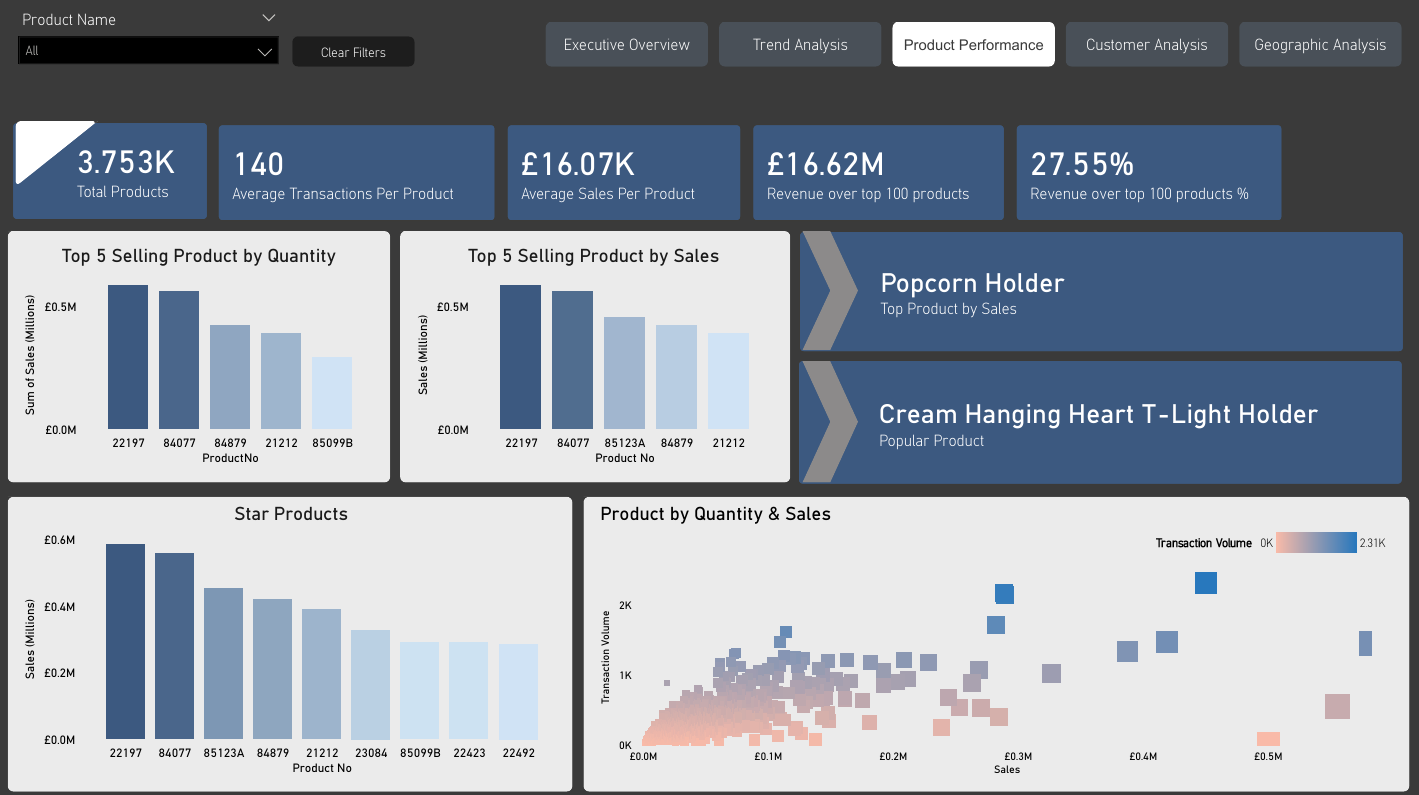

The page's visual inventory and layout, read from the dashboard file:
{"tool":"powerbi","page":{"name":"Product Performance","canvas":[1280,720],"ordinal":2},"visuals":[{"type":"shape","box":[362.5,208.8,351.2,226.2],"z":0},{"type":"shape","box":[10,208.8,343.8,226.2],"z":1000},{"type":"shape","box":[527.5,447.5,743.8,265],"z":2000},{"type":"shape","box":[10,447.5,507.5,265],"z":3000},{"type":"cardVisual","fields":{"Data":["Final Sales.Measure"]},"box":[717.5,203.8,553.8,113.8],"z":4000},{"type":"cardVisual","fields":{"Data":["Final Sales.Revenue over top 10 products"]},"box":[675.3,107.5,236.2,97.5],"z":5000},{"type":"cardVisual","fields":{"Data":["Products.Revenue over top 10 products %"]},"box":[911.5,107.5,250,97.5],"z":6000},{"type":"cardVisual","fields":{"Data":["Products.Total Products"]},"box":[8.8,106.2,186.2,97.5],"z":7000,"group":"g1"},{"type":"cardVisual","fields":{"Data":["Products.Top #1 Product based on Transaction Volume"]},"box":[717.5,310,553.8,127.5],"z":7000},{"type":"cardVisual","fields":{"Data":["Date.Average Transactions Per Product"]},"box":[194,107.5,260,97.5],"z":8000},{"type":"cardVisual","fields":{"Data":["Date.Average Sales Per Product"]},"box":[454,107.5,221.2,97.5],"z":9000},{"type":"scatterChart","title":"Product by Quantity & Sales","fields":{"Y":["Products.Transaction Volume"],"X":["Sum(Sales.Sales)"],"Category":["Products.ProductNo"]},"box":[537.5,452.5,717.5,250],"z":10000},{"type":"clusteredColumnChart","title":"Star Products","fields":{"Category":["Products.ProductNo"],"Y":["Sum(Sales.Sales)","select"]},"box":[20,452.5,490,250],"z":11000},{"type":"clusteredColumnChart","title":"Top 5 Selling Product by Sales","fields":{"Category":["Products.ProductNo"],"Y":["Sum(Sales.Sales)"]},"box":[372.5,221.2,328.8,202.5],"z":12000},{"type":"clusteredColumnChart","title":"Top 5 Selling Product by Quantity","fields":{"Category":["Products.ProductNo"],"Y":["Sum(Sales.Sales)"]},"box":[20,221.2,323.8,202.5],"z":13000},{"type":"slicer","fields":{"Values":["Products.ProductName"]},"box":[10,5.7,254.3,55.7],"z":14000},{"type":"shape","box":[722.2,208.8,57.5,101.2],"z":15000},{"type":"shape","box":[723.5,316.2,57.8,113.8],"z":16000},{"type":"actionButton","box":[265.7,34.3,110,27.1],"z":17000},{"type":"group","id":"g1","title":"Group 1","box":[8.8,106.2,186.2,97.5],"z":18000},{"type":"pageNavigator","box":[493.8,21.2,770,40],"z":19000},{"type":"shape","box":[16.3,110.1,74.3,58.6],"z":20000,"group":"g1"}]}

Visuals, with their boxes in screenshot pixels (x1, y1, x2, y2), scaled from the page's 1280x720 canvas onto the 1419x795 screenshot:
shape: box=[402, 231, 791, 480]
shape: box=[11, 231, 392, 480]
shape: box=[585, 494, 1409, 787]
shape: box=[11, 494, 574, 787]
cardVisual - Final Sales.Measure: box=[795, 225, 1409, 351]
cardVisual - Final Sales.Revenue over top 10 products: box=[749, 119, 1010, 226]
cardVisual - Products.Revenue over top 10 products %: box=[1010, 119, 1288, 226]
cardVisual - Products.Total Products: box=[10, 117, 216, 225]
cardVisual - Products.Top #1 Product based on Transaction Volume: box=[795, 342, 1409, 483]
cardVisual - Date.Average Transactions Per Product: box=[215, 119, 503, 226]
cardVisual - Date.Average Sales Per Product: box=[503, 119, 749, 226]
"Product by Quantity & Sales" scatterChart: box=[596, 500, 1391, 776]
"Star Products" clusteredColumnChart: box=[22, 500, 565, 776]
"Top 5 Selling Product by Sales" clusteredColumnChart: box=[413, 244, 777, 468]
"Top 5 Selling Product by Quantity" clusteredColumnChart: box=[22, 244, 381, 468]
slicer - Products.ProductName: box=[11, 6, 293, 68]
shape: box=[801, 231, 864, 342]
shape: box=[802, 349, 866, 475]
actionButton: box=[295, 38, 416, 68]
"Group 1" group: box=[10, 117, 216, 225]
pageNavigator: box=[547, 23, 1401, 68]
shape: box=[18, 122, 100, 186]
